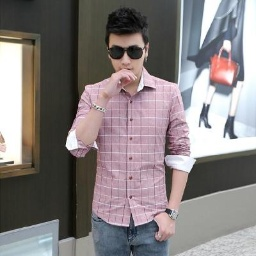face: (104, 7, 150, 82)
